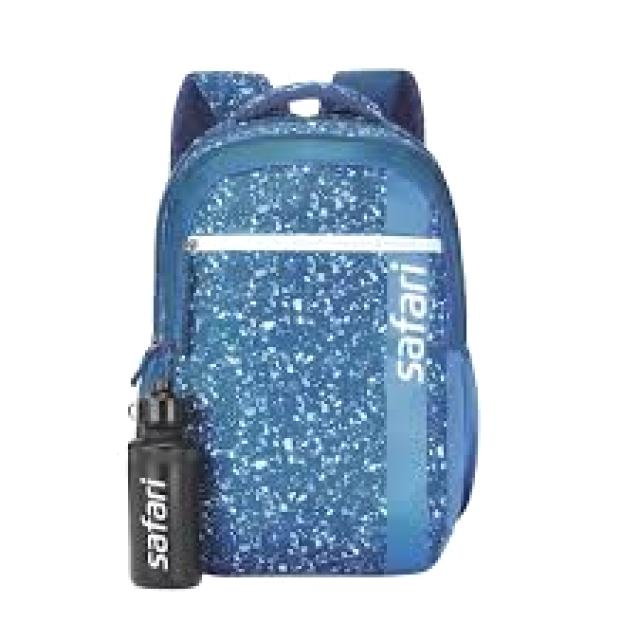backpack: (127, 67, 479, 587)
